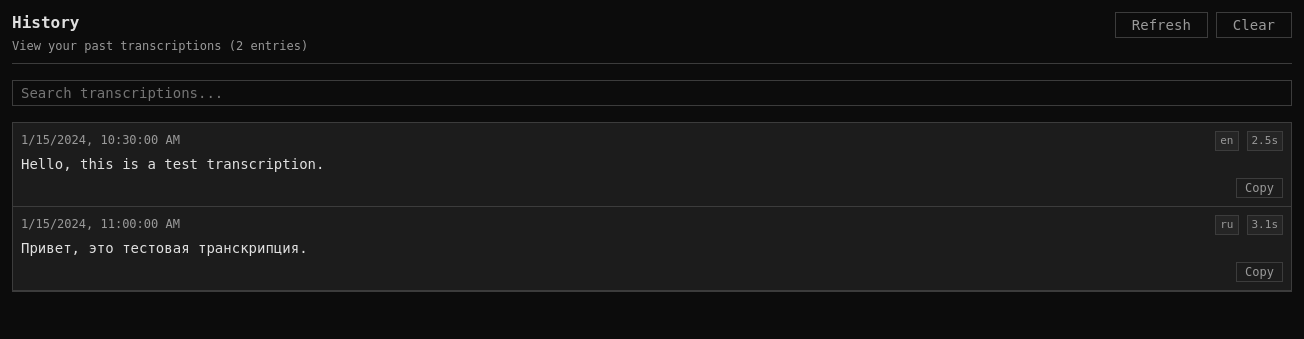
HistoryPage › filters entries by search query
Type "test" into the field with placeholder "Search transcriptions...".
click(652, 93); type("test")  # box [12,80,1292,106]
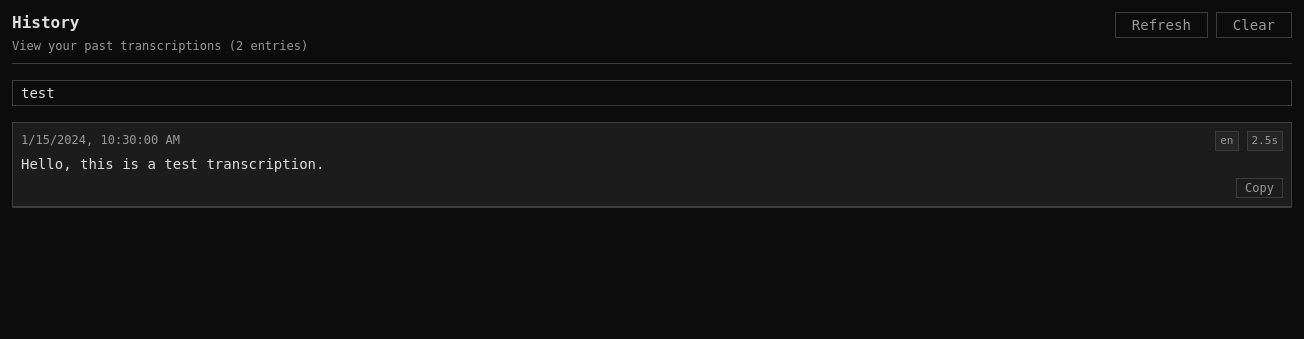
Check: the text "Hello, this is a test transcription." is shown, box [21,156,324,172]
Note: Search for something not matching
Replace the text in the field with placeholder "Search transcriptions..." with "xyz123" at (652, 93), box [12,80,1292,106]
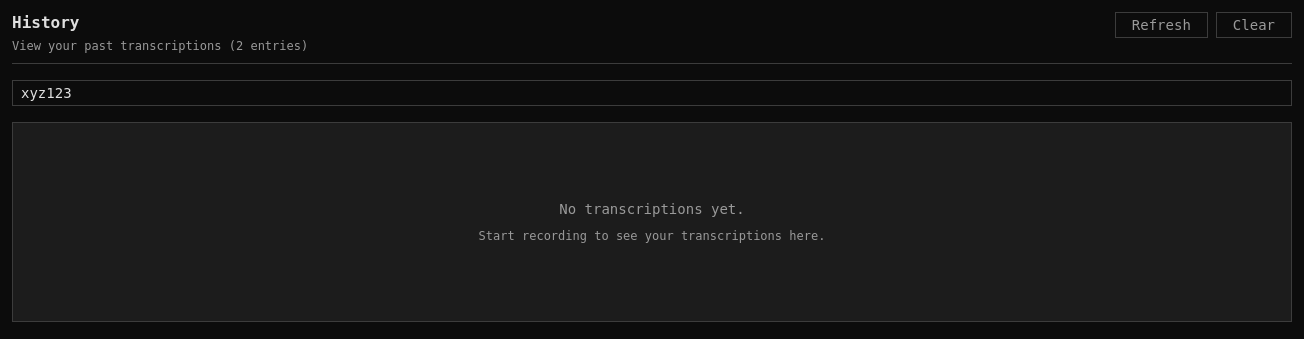
Check: the text "No transcriptions yet." is shown, box [559,200,745,220]
